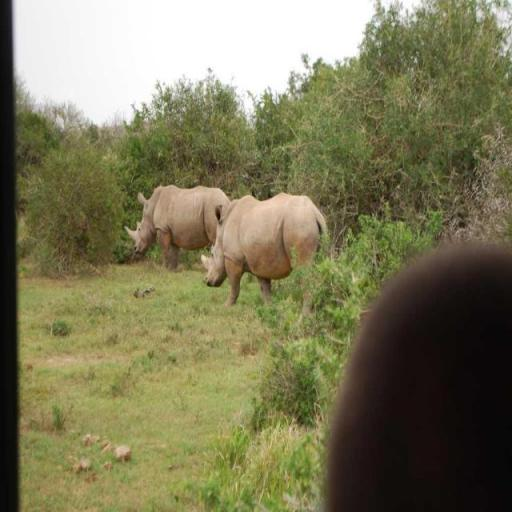Rhino: (200, 190, 326, 313), (123, 183, 231, 271)
